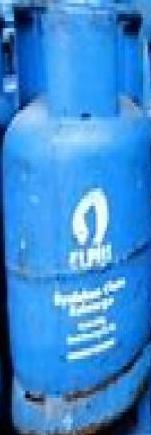cylinder: (1, 1, 151, 435)
